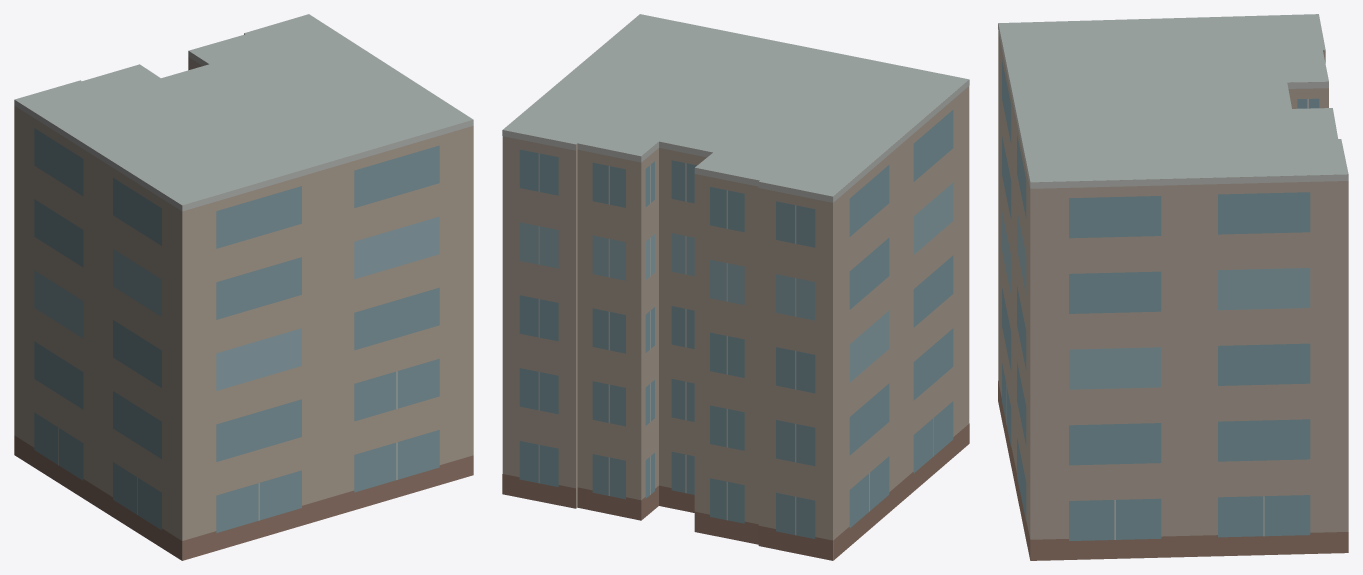
File: survey-upis-32526637.glb
3 views of the same model, side by side, from view 1: azimuth 30°, elevation 25°; view 2: azimuth 150°, elevation 25°; view 3: azimuth 270°, elevation 25° (orthographic). The views are drawn at different scales.
Parts seen in each view (by area): view 1: survey-upis-32526637.tmp; view 2: survey-upis-32526637.tmp; view 3: survey-upis-32526637.tmp.
Part boxes in pixels (left/top/right/bottom): survey-upis-32526637.tmp: left=14, top=14, right=473, bottom=560; survey-upis-32526637.tmp: left=502, top=14, right=969, bottom=560; survey-upis-32526637.tmp: left=998, top=14, right=1348, bottom=560.
Size of the model in its own units: 13.65 by 14.3 by 12.01.
